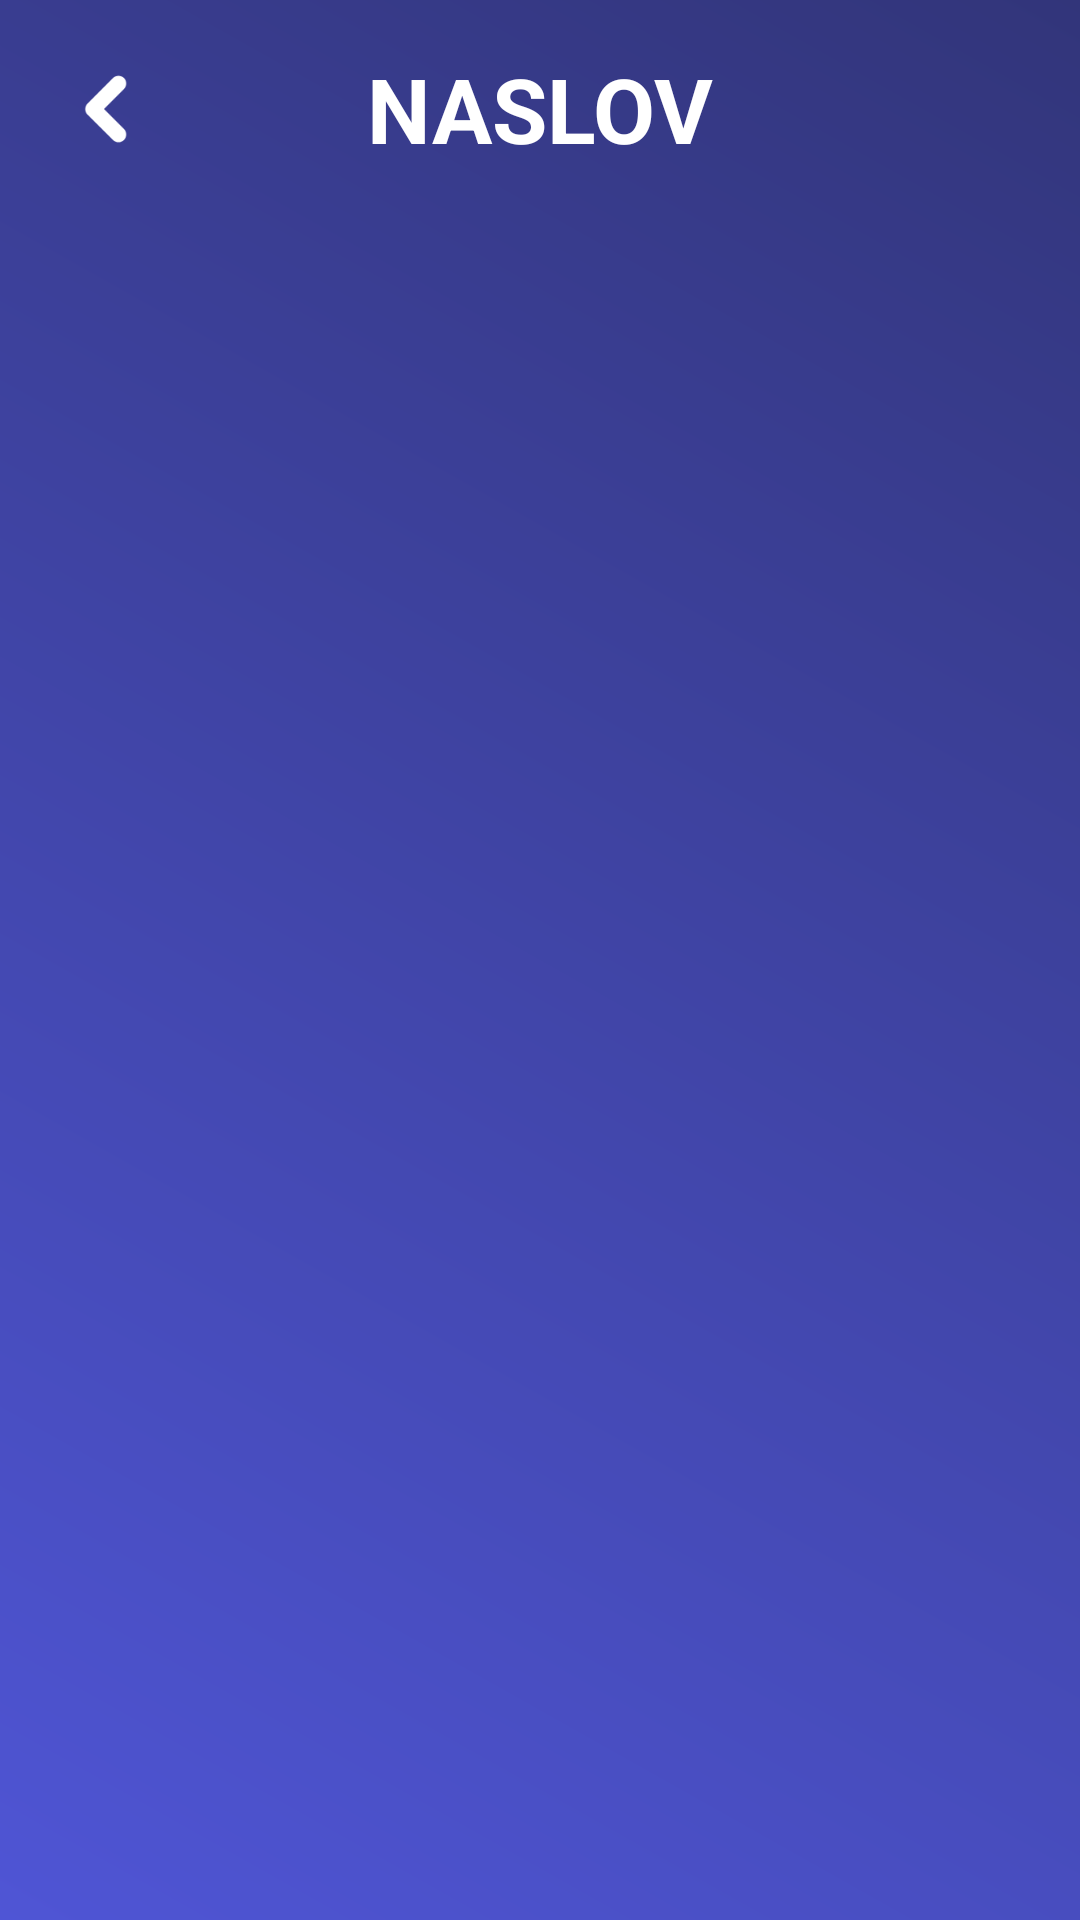

Point at icon controls on the screen. Image size 1080px×1920px, points as point (x, y).
back button: point (106, 109)
